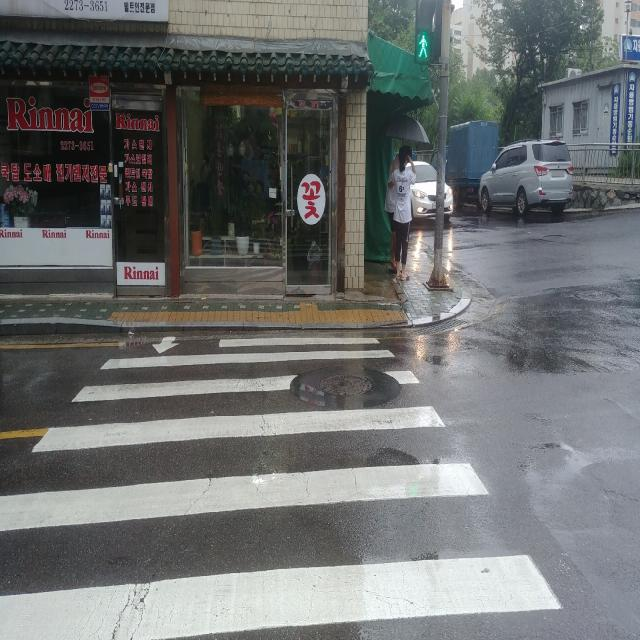초록불: (415, 0, 436, 68)
횡단보도: (0, 334, 565, 640)
